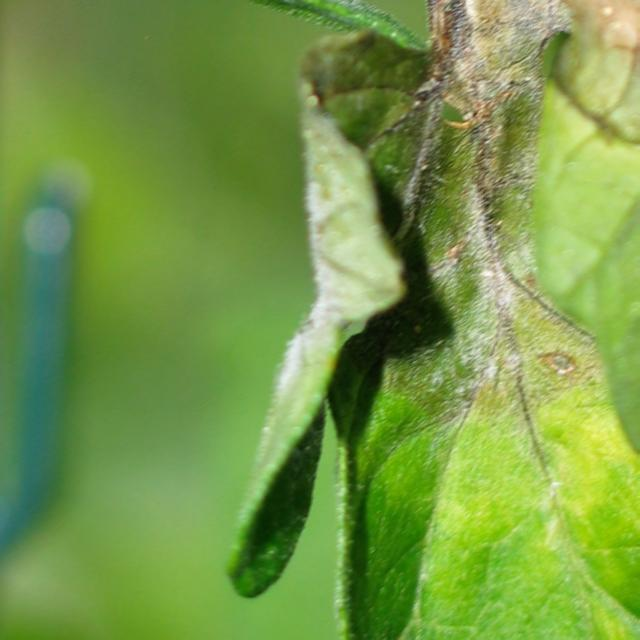Tomato leaf late blight: (236, 0, 640, 640)
